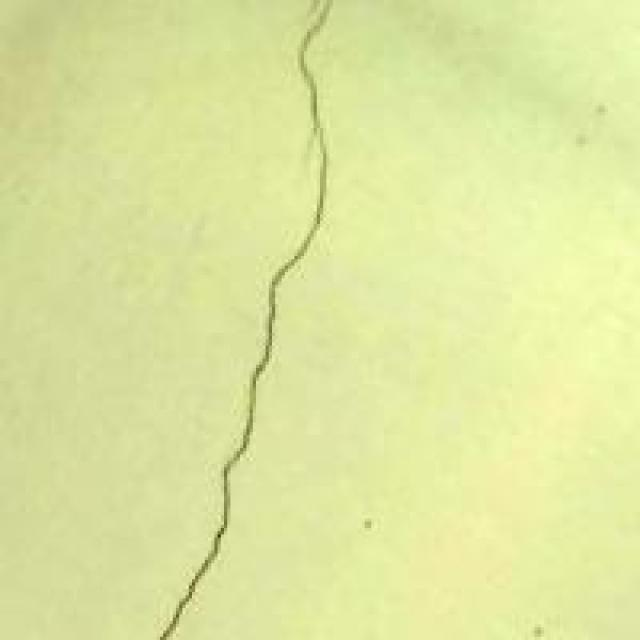Crack: (157, 3, 343, 637)
